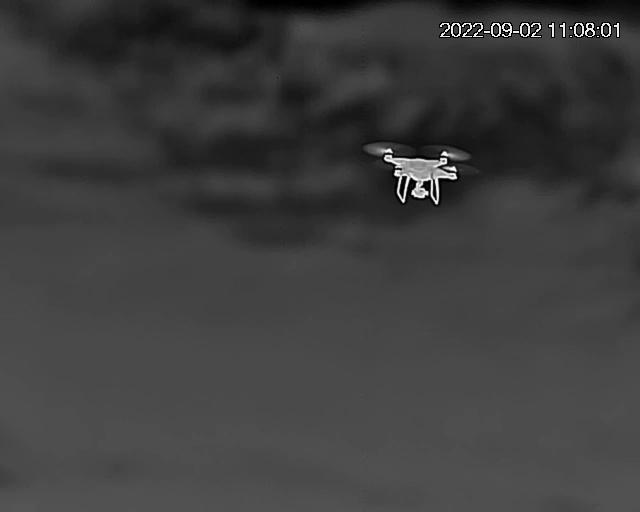DJI-Phantom: (365, 141, 468, 207)
